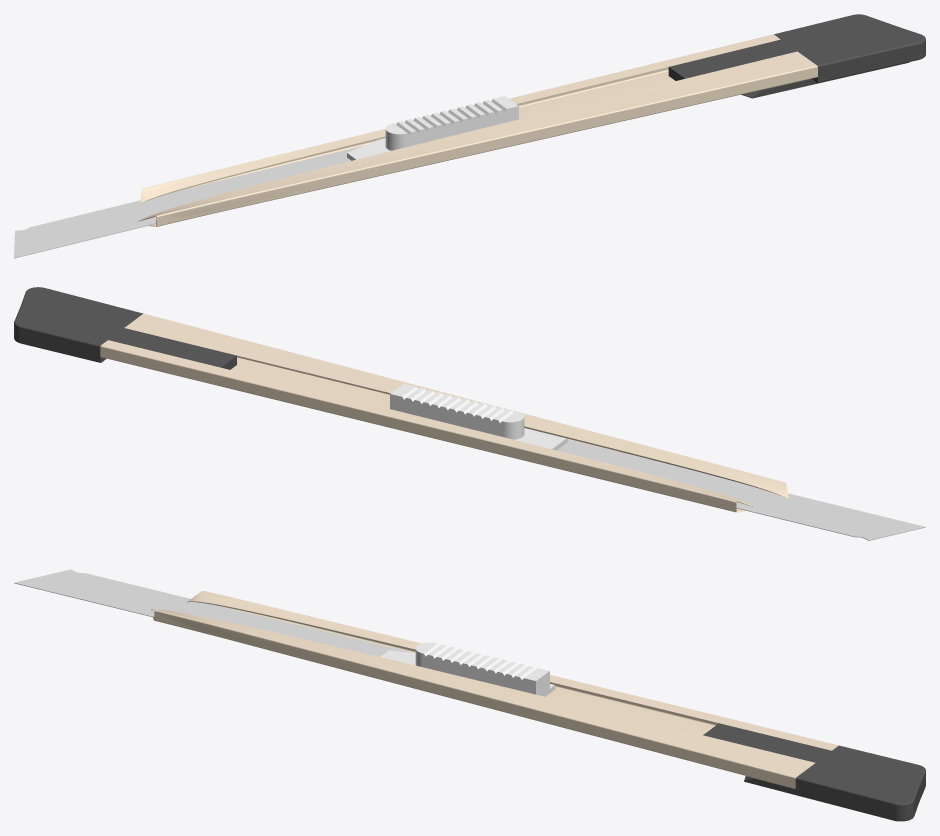
File: 248_カッターナイフ刃出し.glb
The picture shows the model from 3 angles, top to bottom: view 1: azimuth 30°, elevation 25°; view 2: azimuth 150°, elevation 25°; view 3: azimuth 330°, elevation 25°; orthographic projection.
Parts seen in each view (by area): view 1: Body, 蓋, 刃, スライダー; view 2: Body, 蓋, 刃, スライダー; view 3: Body, 蓋, 刃, スライダー.
Part boxes in pixels (<box>): Body: <box>138,34,817,226</box>; 蓋: <box>668,14,925,98</box>; 刃: <box>14,146,362,258</box>; スライダー: <box>347,96,518,160</box>; Body: <box>100,313,788,512</box>; 蓋: <box>14,287,236,369</box>; 刃: <box>557,439,925,540</box>; スライダー: <box>390,384,567,450</box>; Body: <box>151,591,838,788</box>; 蓋: <box>703,723,925,821</box>; 刃: <box>14,569,411,656</box>; スライダー: <box>380,642,555,696</box>.
Bounding box in the file's own units: 0.1608 × 0.0062 × 0.0142.
